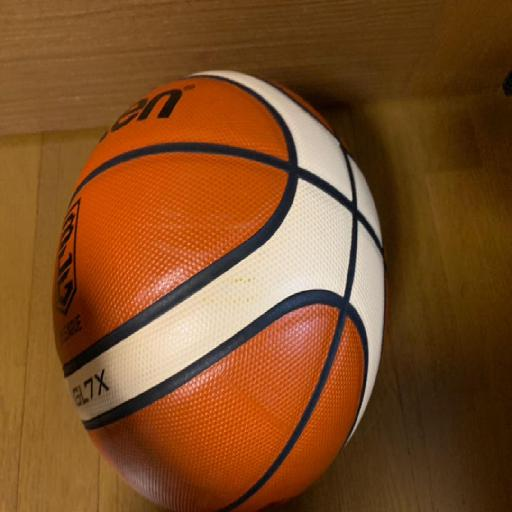ball: (50, 69, 388, 512)
